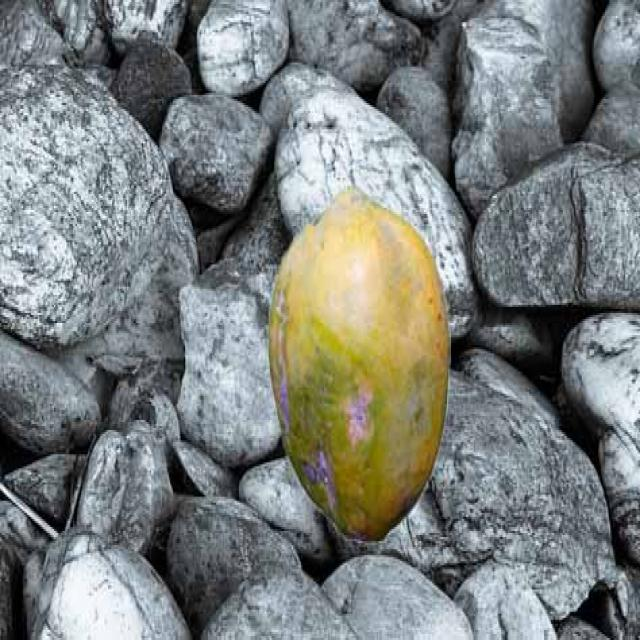Pepaya rippen: (251, 174, 455, 553)
